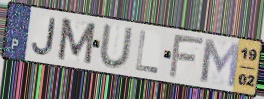F: (167, 34, 207, 80)
J: (31, 16, 58, 57)
L: (134, 29, 159, 75)
M: (199, 37, 242, 90), (56, 16, 98, 67)
U: (98, 23, 135, 71)
